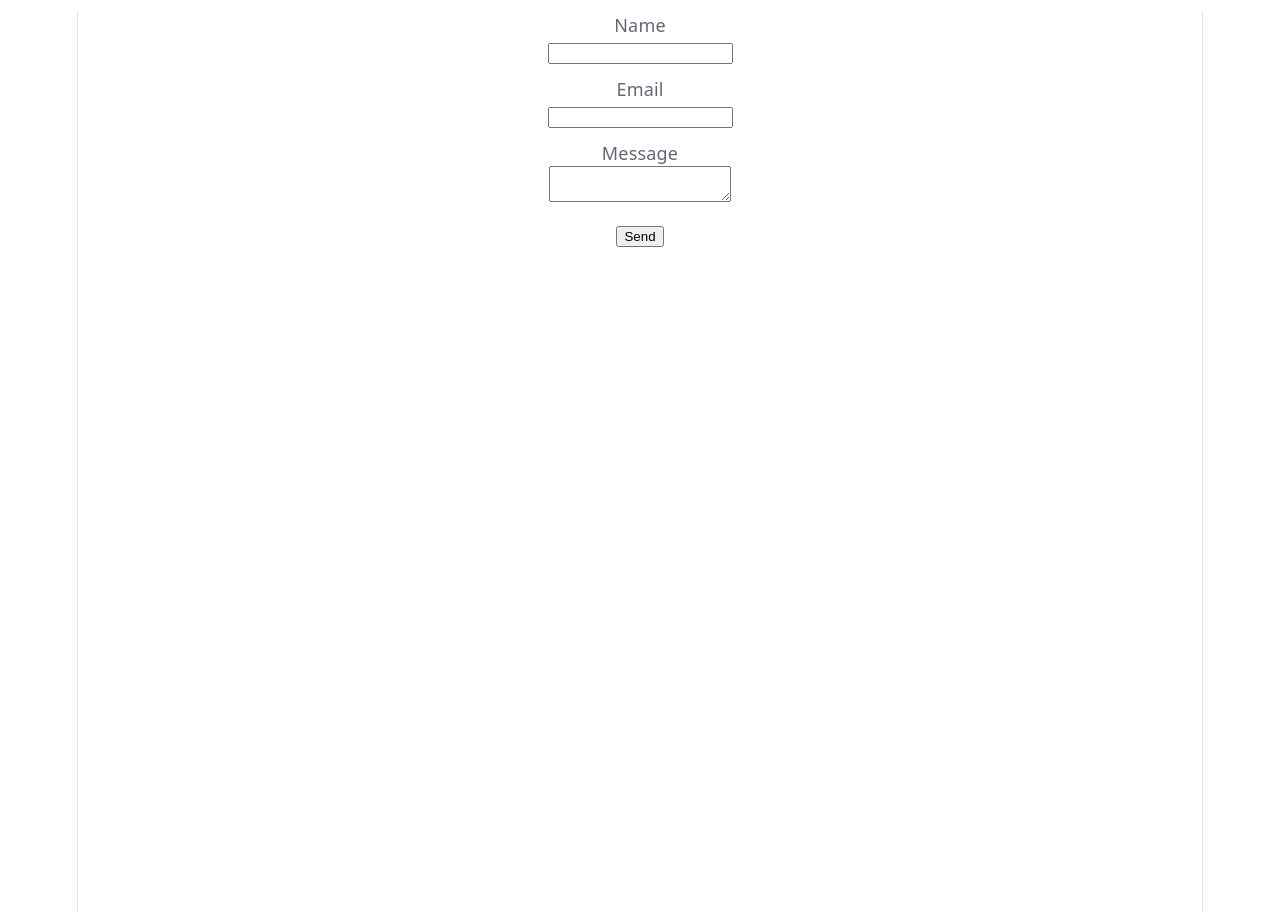
Test case: ContactForm › shows the email error for an invalid email format
The image size is (1280, 912).
Step 1. Type "not-an-email" into the field labelled "Email" → (640, 118), box [548,107,732,128]
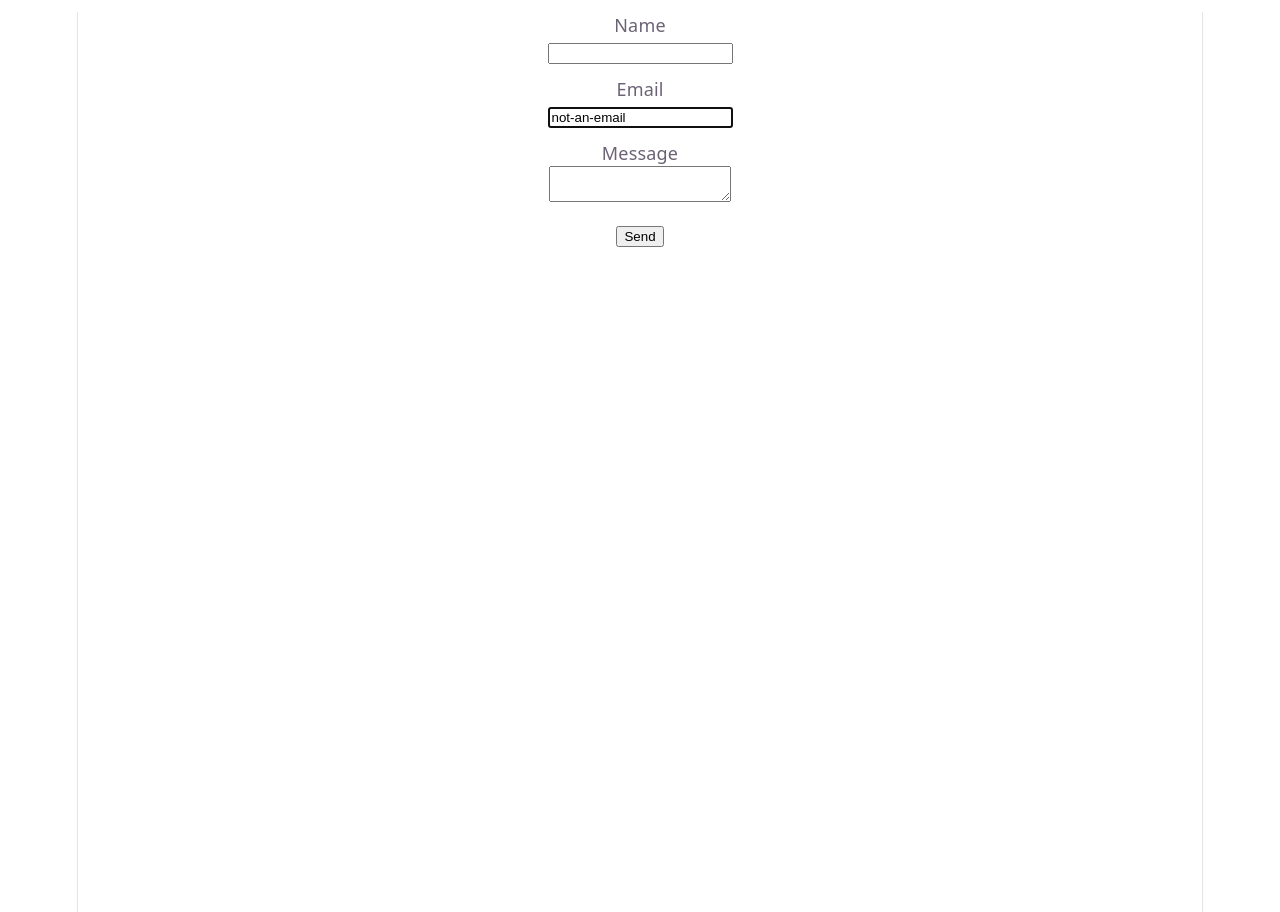
Step 2. Press Tab
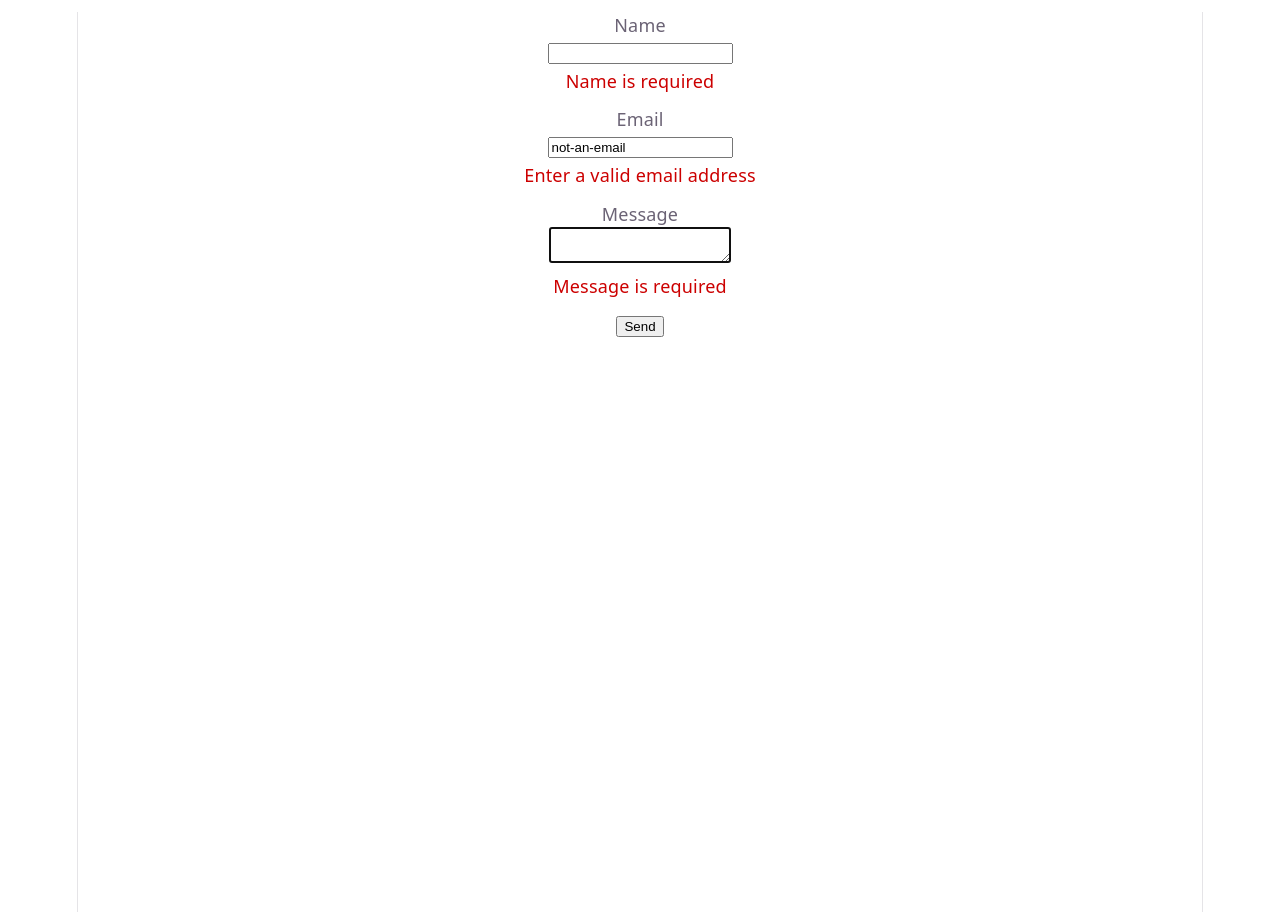
Expected: the text "Enter a valid email address" is shown, [524,164,756,188]
